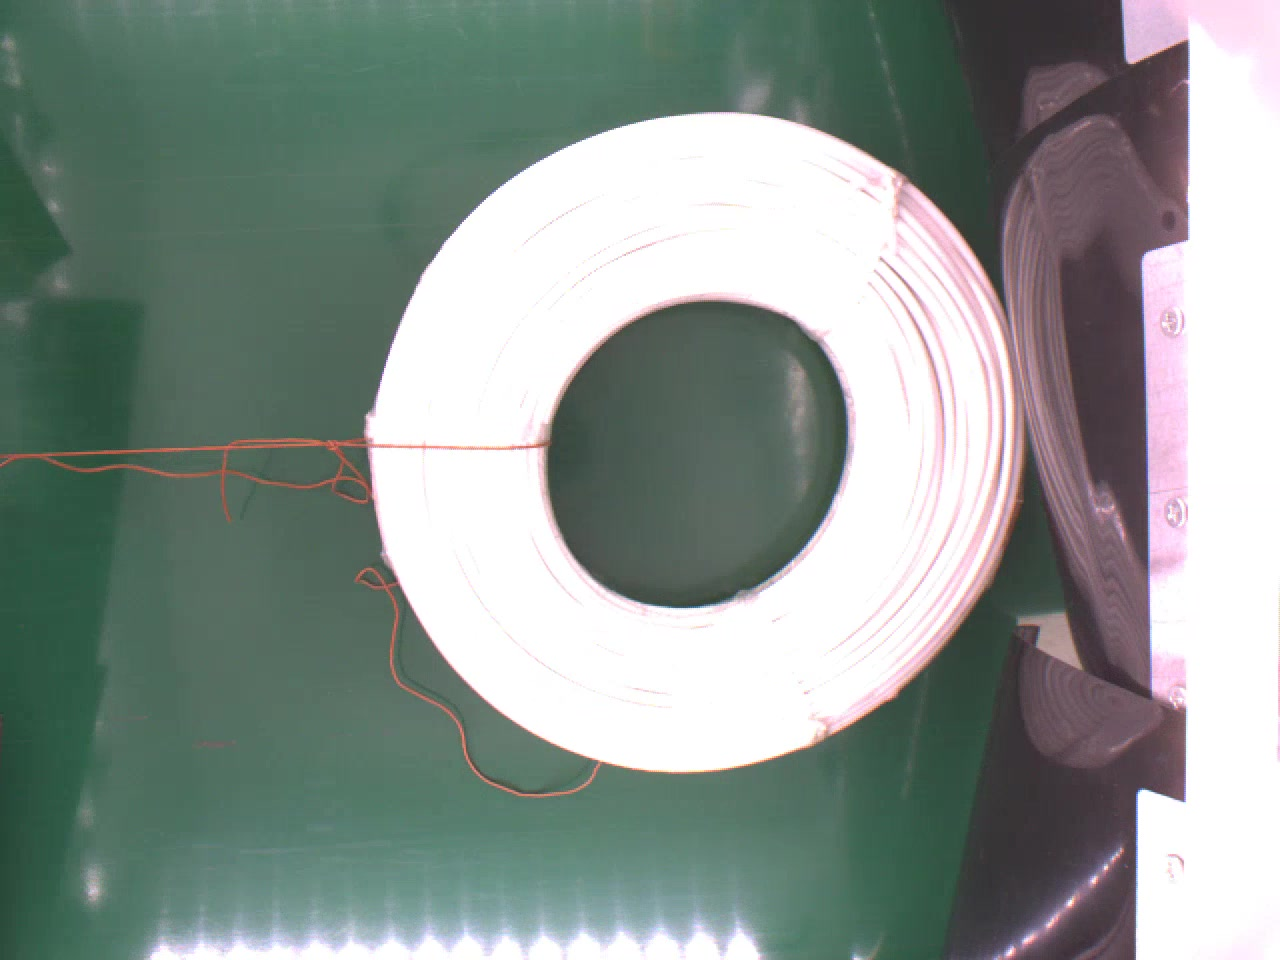white: (373, 103, 1042, 774)
